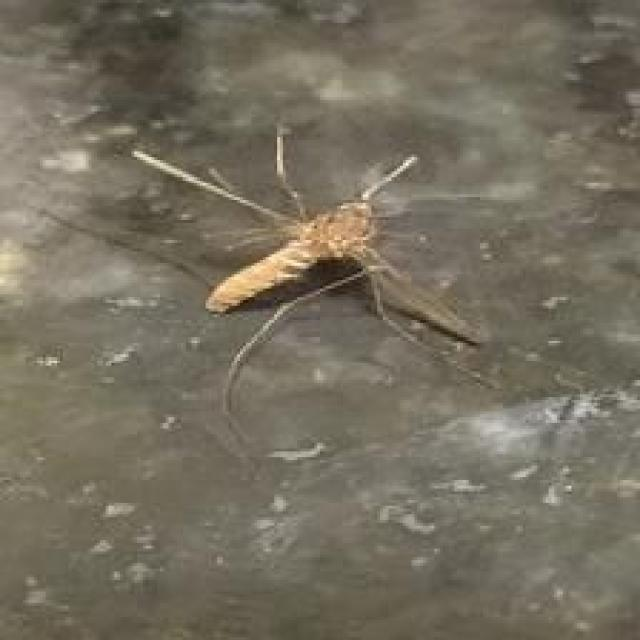Culex: (127, 121, 487, 422)
